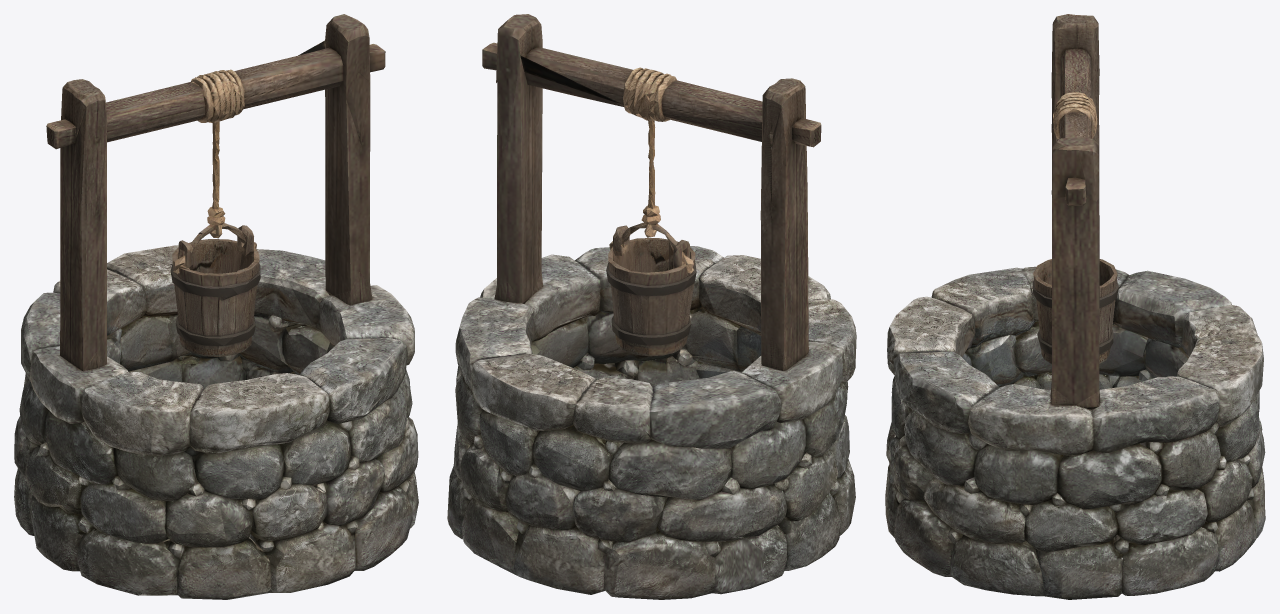
Rendered from well.glb.
3 views of the same model, side by side, from view 1: azimuth 30°, elevation 25°; view 2: azimuth 150°, elevation 25°; view 3: azimuth 270°, elevation 25° (orthographic). The views are drawn at different scales.
Bounding box in the file's own units: 1.47 × 1.89 × 1.48.
Materials: 1 (1 with a texture image).
